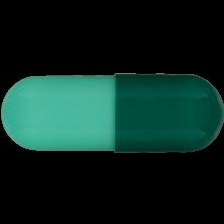62037-640: (0, 0, 224, 224)
